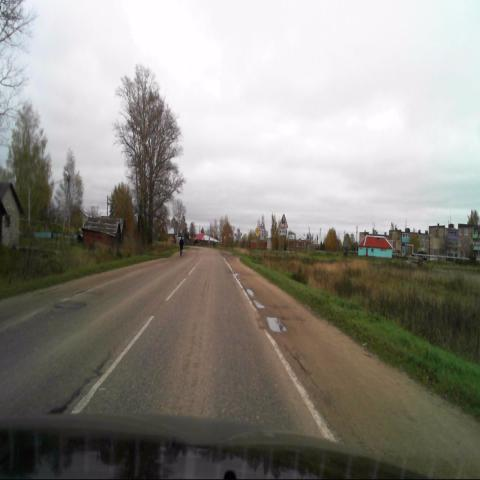1_12_2: (278, 213, 288, 228)
